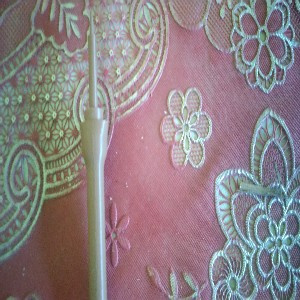solder: (79, 8, 109, 300)
